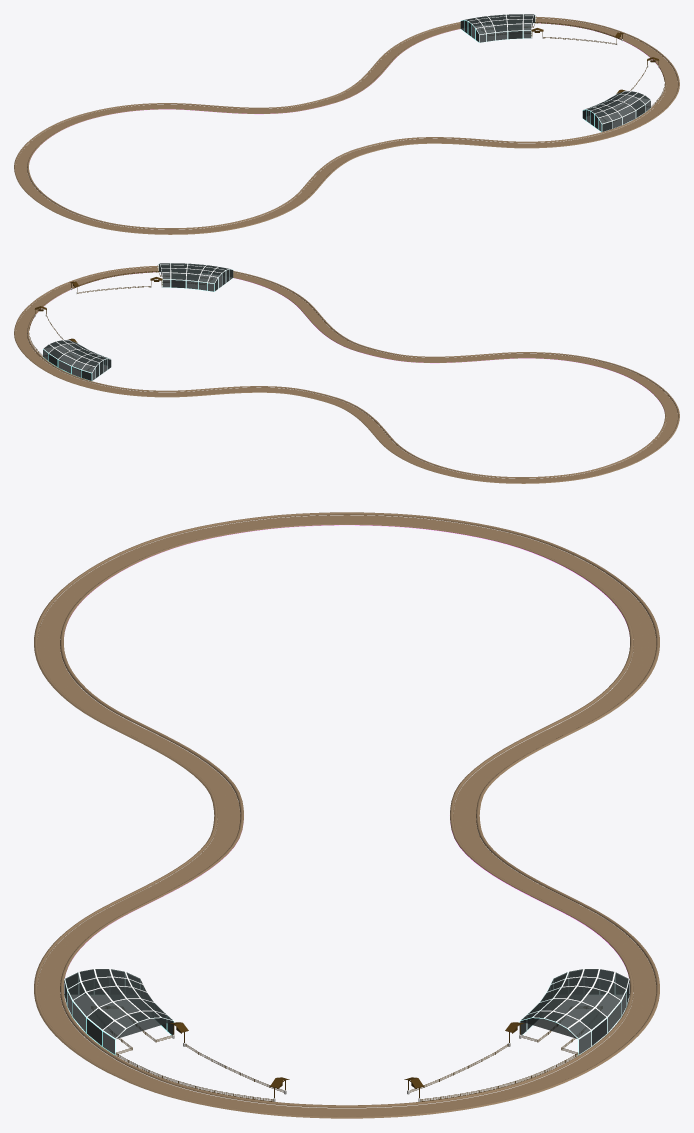
The model's file is Fences.fbx.
The picture shows the model from 3 angles, top to bottom: view 1: azimuth 30°, elevation 25°; view 2: azimuth 150°, elevation 25°; view 3: azimuth 270°, elevation 25°; orthographic projection. The views are drawn at different scales.
Parts seen in each view (by area): view 1: SM_SmallArea_.007, Plane.011; view 2: SM_SmallArea_.007, Plane.011; view 3: SM_SmallArea_.007, Plane.011.
Boxes of the visible parts, x1,y1,x2,y2 form: SM_SmallArea_.007: [14, 16, 679, 234]; Plane.011: [460, 14, 664, 132]; SM_SmallArea_.007: [14, 265, 679, 483]; Plane.011: [29, 263, 233, 381]; SM_SmallArea_.007: [34, 512, 659, 1118]; Plane.011: [64, 968, 629, 1101].
Bounding box in the file's own units: 53920 × 1147 × 23543.
